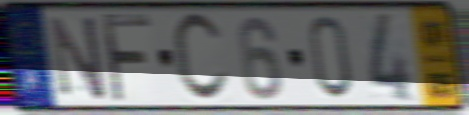0: (308, 13, 354, 102)
4: (365, 10, 417, 105)
6: (236, 13, 284, 103)
C: (170, 10, 232, 106)
F: (98, 10, 155, 105)
N: (46, 13, 109, 103)
